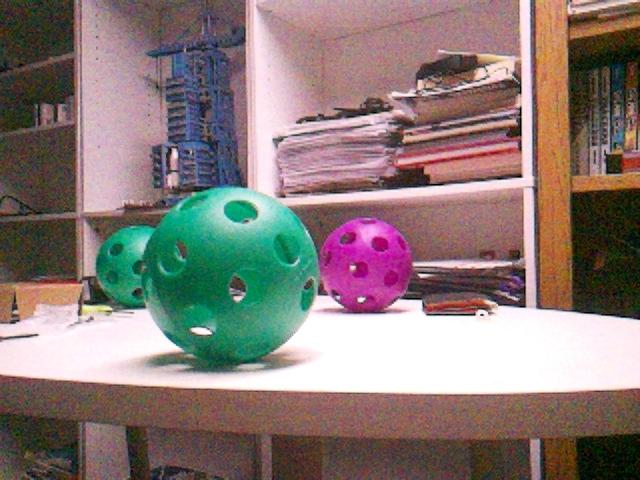Green: (140, 186, 317, 363), (93, 225, 157, 307)
Purple: (317, 217, 413, 311)
